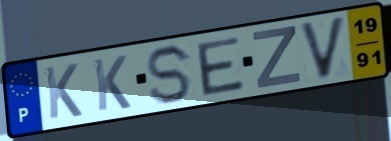E: (194, 34, 247, 98)
K: (42, 61, 85, 122), (91, 53, 133, 114)
S: (144, 43, 195, 107)
V: (297, 13, 348, 82)
Z: (250, 24, 304, 91)
